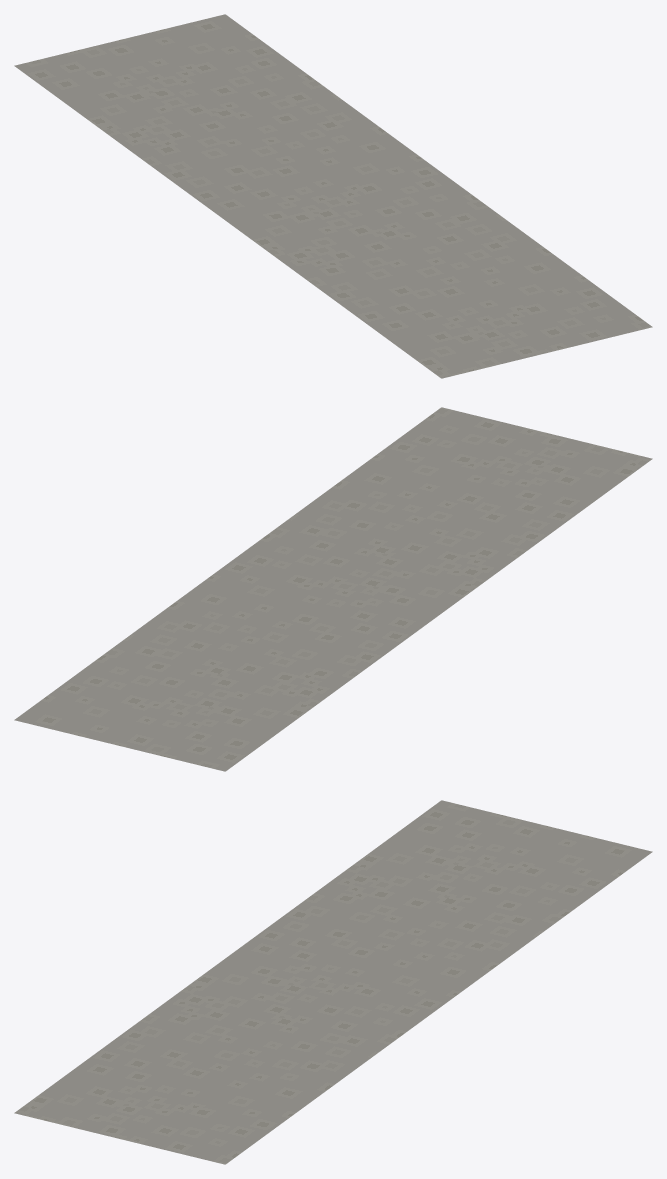
File: kd_stage_135c43_4_19_bounded_piece_3.glb
The picture shows the model from 3 angles, top to bottom: view 1: azimuth 30°, elevation 25°; view 2: azimuth 150°, elevation 25°; view 3: azimuth 330°, elevation 25°; orthographic projection.
Parts seen in each view (by area): view 1: kd_stage_135c43_4_19_bounded_piece_3; view 2: kd_stage_135c43_4_19_bounded_piece_3; view 3: kd_stage_135c43_4_19_bounded_piece_3.
Boxes of the visible parts, left/top/right/bottom form: kd_stage_135c43_4_19_bounded_piece_3: left=14, top=14, right=652, bottom=378; kd_stage_135c43_4_19_bounded_piece_3: left=14, top=407, right=652, bottom=771; kd_stage_135c43_4_19_bounded_piece_3: left=14, top=800, right=652, bottom=1164.
Bounding box in the file's own units: 0.2684 × 1.19e-07 × 0.9402.
1 material, 1 textured.
